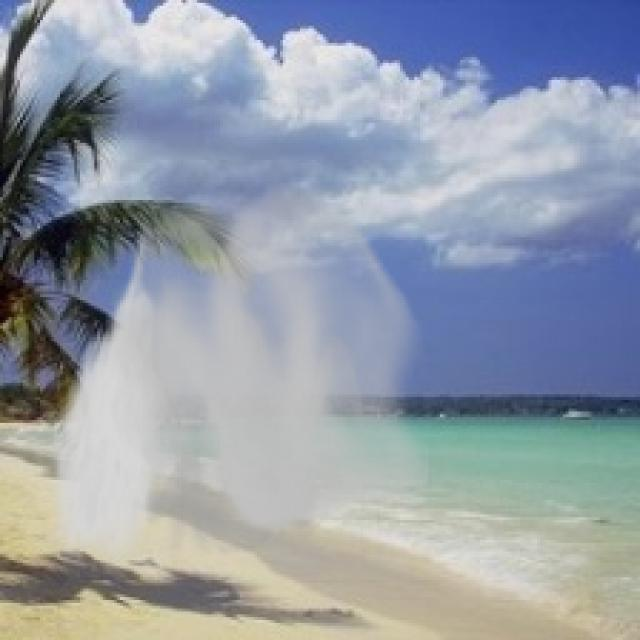smoke: (46, 171, 431, 580)
